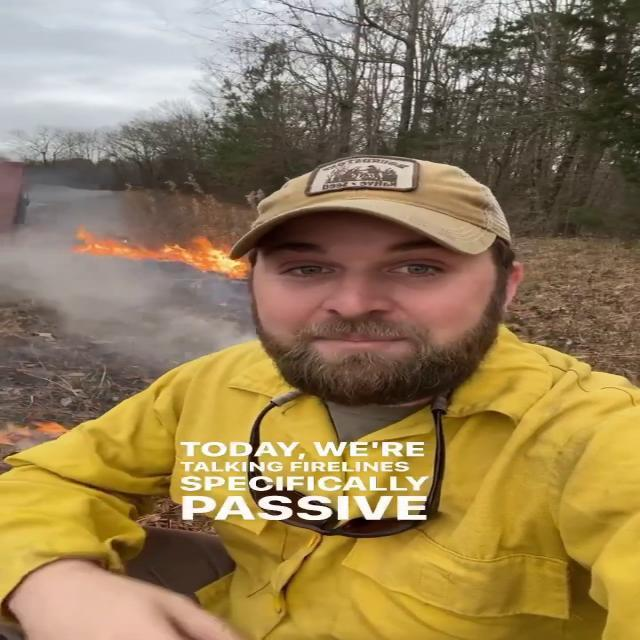Fire: (73, 233, 240, 280)
Smoke: (3, 190, 222, 372)
